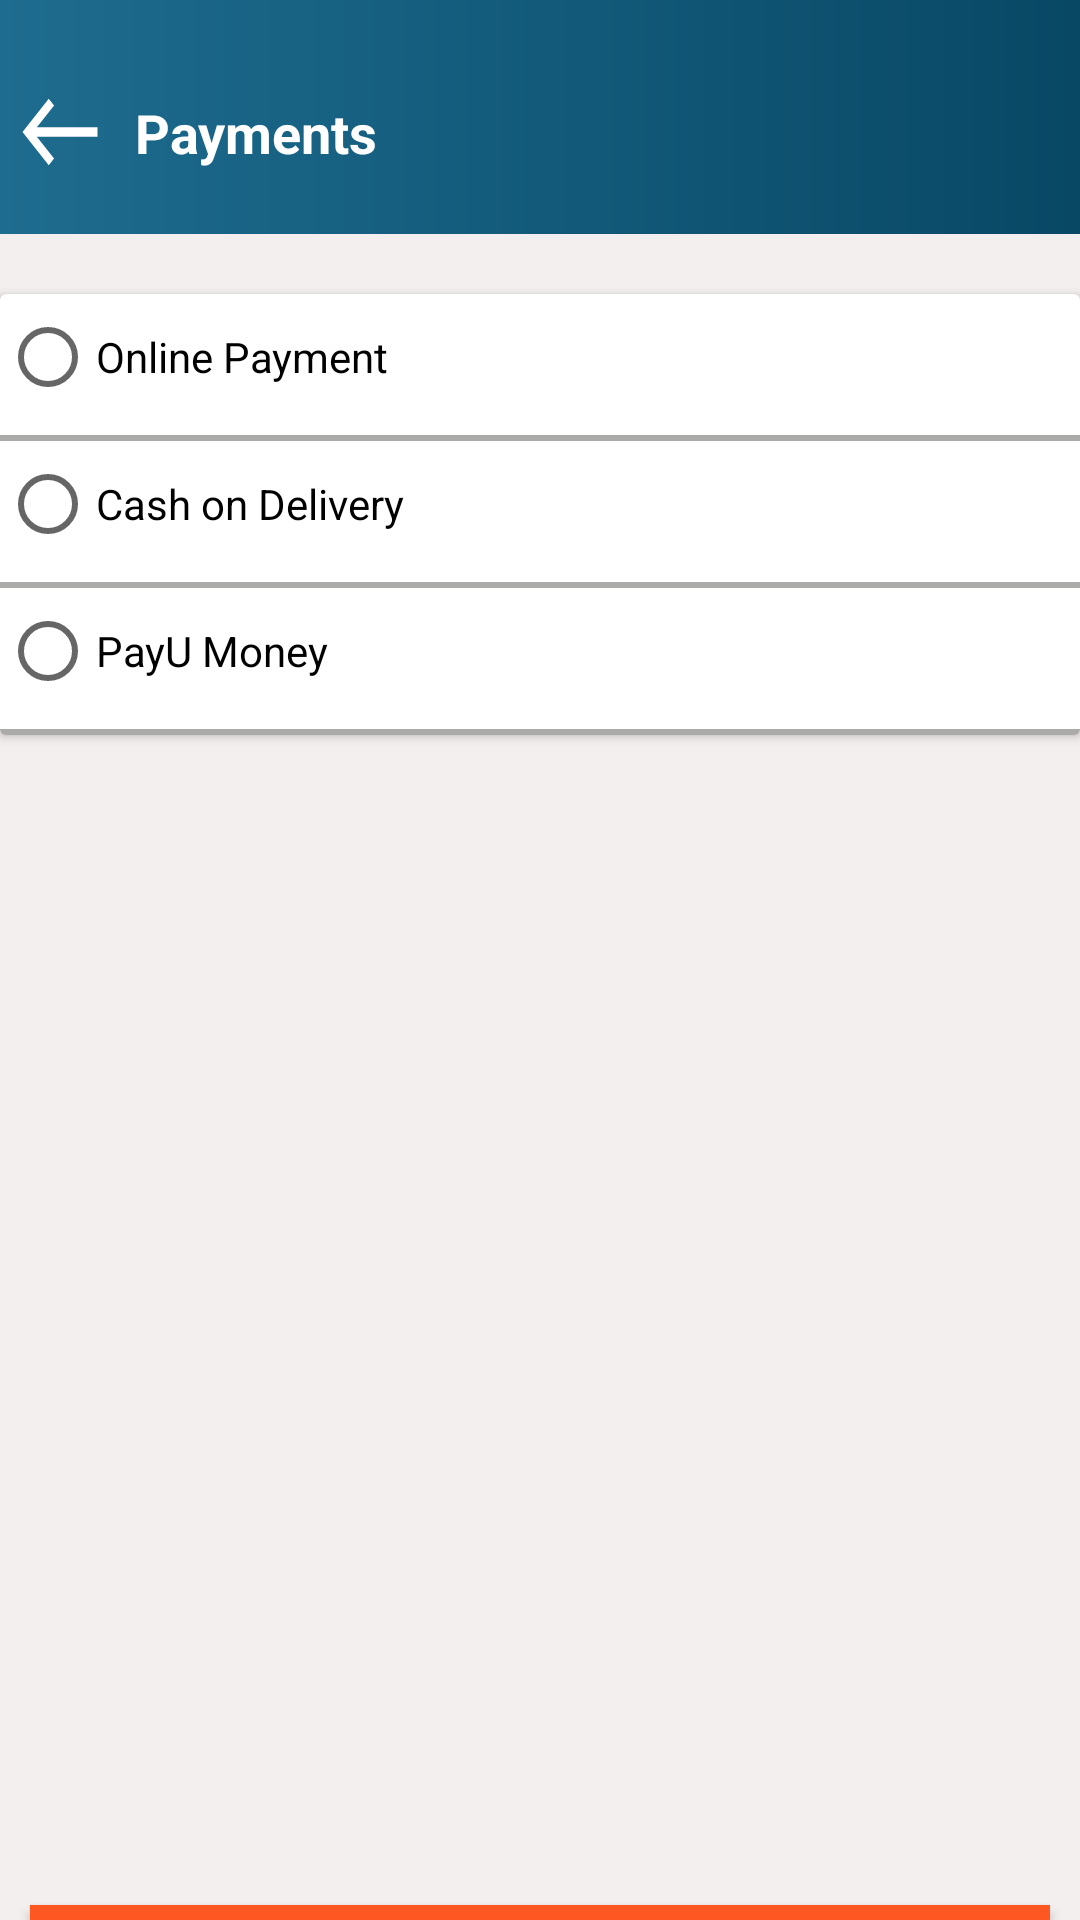

Icons on this 1080 x 1920 Android screen, each with the point to tap as point (x, y):
west: point (60, 132)
